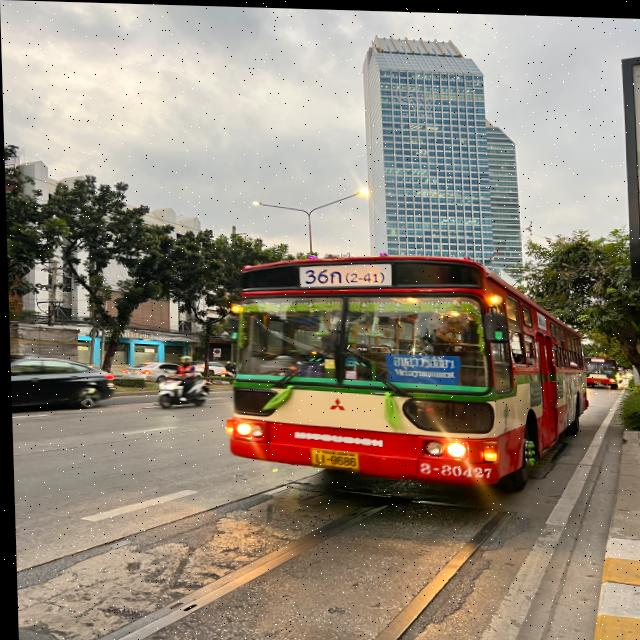BMTA-bus: (218, 248, 589, 492)
Bus-Line-Number: (295, 261, 391, 289)
Destination-Sign-Normal: (384, 352, 459, 382)
